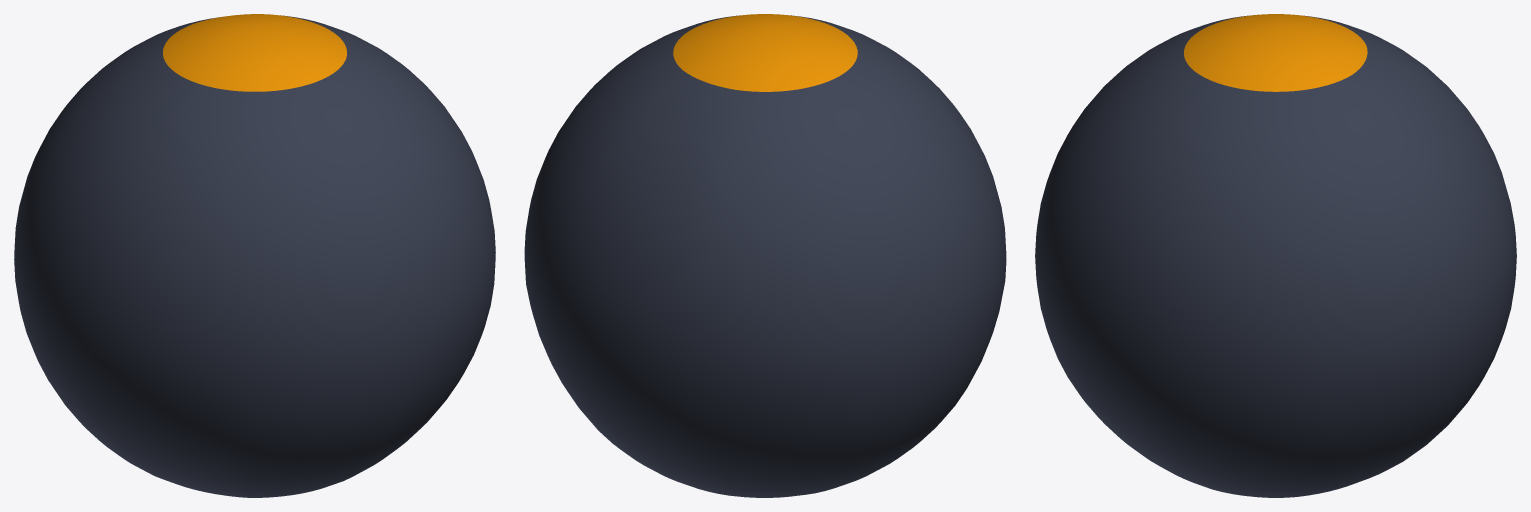
Rendered from ball8.fbx.
The picture shows the model from 3 angles, left to right: view 1: azimuth 30°, elevation 25°; view 2: azimuth 150°, elevation 25°; view 3: azimuth 270°, elevation 25°; orthographic projection.
Visible parts, largest first — view 1: ball8; view 2: ball8; view 3: ball8.
Boxes of the visible parts, x1,y1,x2,y2 form: ball8: (14,14,495,497); ball8: (524,14,1006,497); ball8: (1035,14,1516,497).
Bounding box in the file's own units: 0.6477 × 0.6545 × 0.6477.
